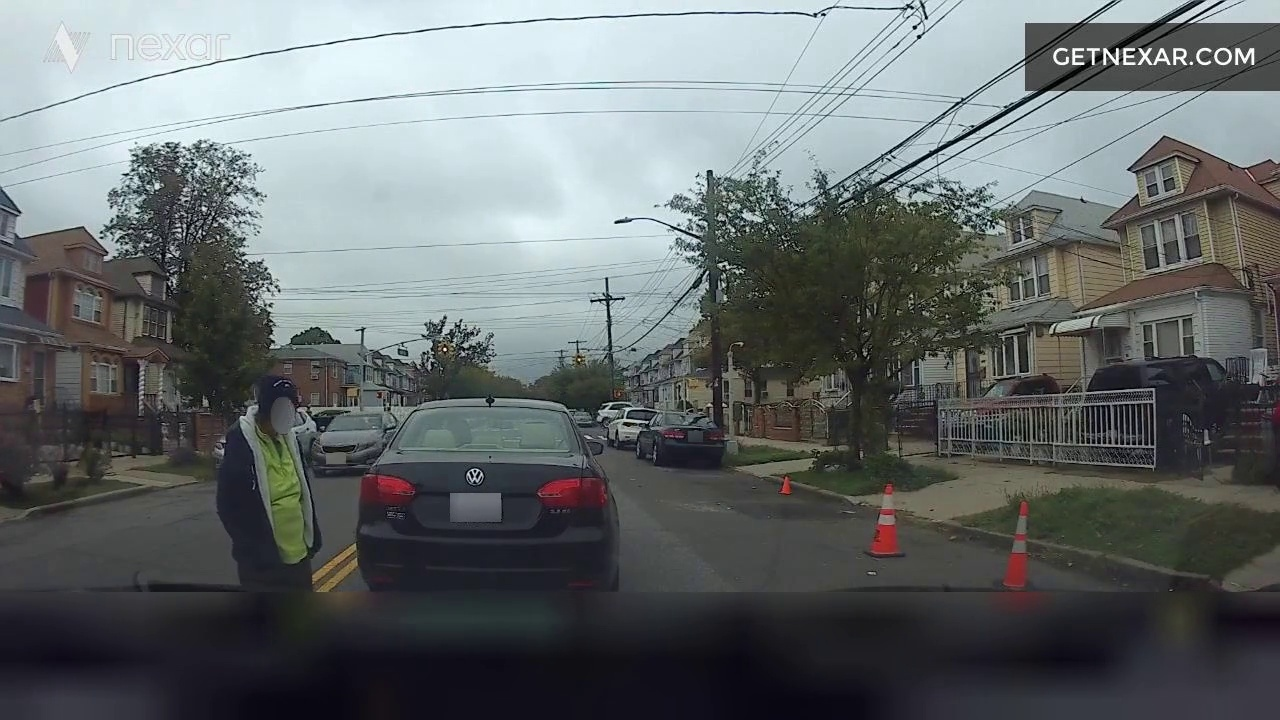car: (401, 381, 627, 600), (1094, 337, 1232, 464), (959, 344, 1055, 461), (622, 369, 716, 482), (304, 360, 391, 476)
person: (229, 374, 340, 624)
